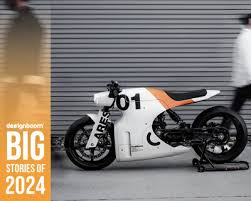motorcycle: (62, 78, 251, 170)
